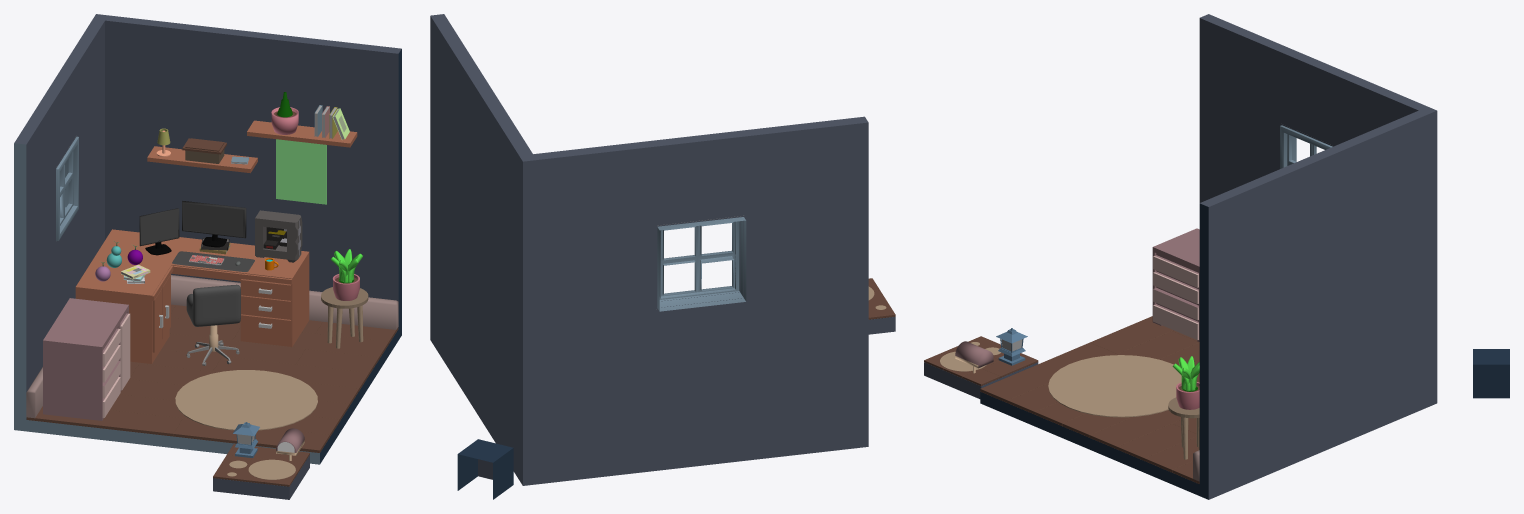
Rendered from FinalRoom2.glb.
3 views of the same model, side by side, from view 1: azimuth 30°, elevation 25°; view 2: azimuth 150°, elevation 25°; view 3: azimuth 270°, elevation 25° (orthographic). The views are drawn at different scales.
Visible parts, largest first — view 1: Body, Desks, Armario, Plane, Table Stuff, EstanteBase, Computer, Mini floor, Chair, FloorFirst, lamp, Mailbox; view 2: Body, Cube, Mini floor; view 3: Body, Plane, Armario, Mini floor, Cube, Table Stuff, lamp, Desks, Mailbox.
Boxes of the visible parts, <box> form: Body: <box>14,14,401,464</box>; Desks: <box>75,229,368,363</box>; Armario: <box>43,298,130,420</box>; Plane: <box>175,325,317,430</box>; Table Stuff: <box>95,210,362,300</box>; EstanteBase: <box>147,92,357,173</box>; Computer: <box>139,201,246,255</box>; Mini floor: <box>213,444,309,499</box>; Chair: <box>186,284,240,326</box>; FloorFirst: <box>248,459,295,479</box>; lamp: <box>233,422,259,457</box>; Mailbox: <box>276,428,304,460</box>; Body: <box>430,14,868,485</box>; Cube: <box>457,439,513,499</box>; Mini floor: <box>868,278,895,334</box>; Body: <box>980,14,1437,499</box>; Plane: <box>1048,355,1181,417</box>; Armario: <box>1152,228,1199,341</box>; Mini floor: <box>924,336,1038,398</box>; Cube: <box>1473,349,1509,398</box>; Table Stuff: <box>1172,356,1199,409</box>; lamp: <box>996,328,1027,365</box>; Desks: <box>1168,397,1199,459</box>; Mailbox: <box>955,341,993,373</box>.
Bounding box in the file's own units: 11.31 × 8.03 × 14.51.
69 materials, 1 textured.
